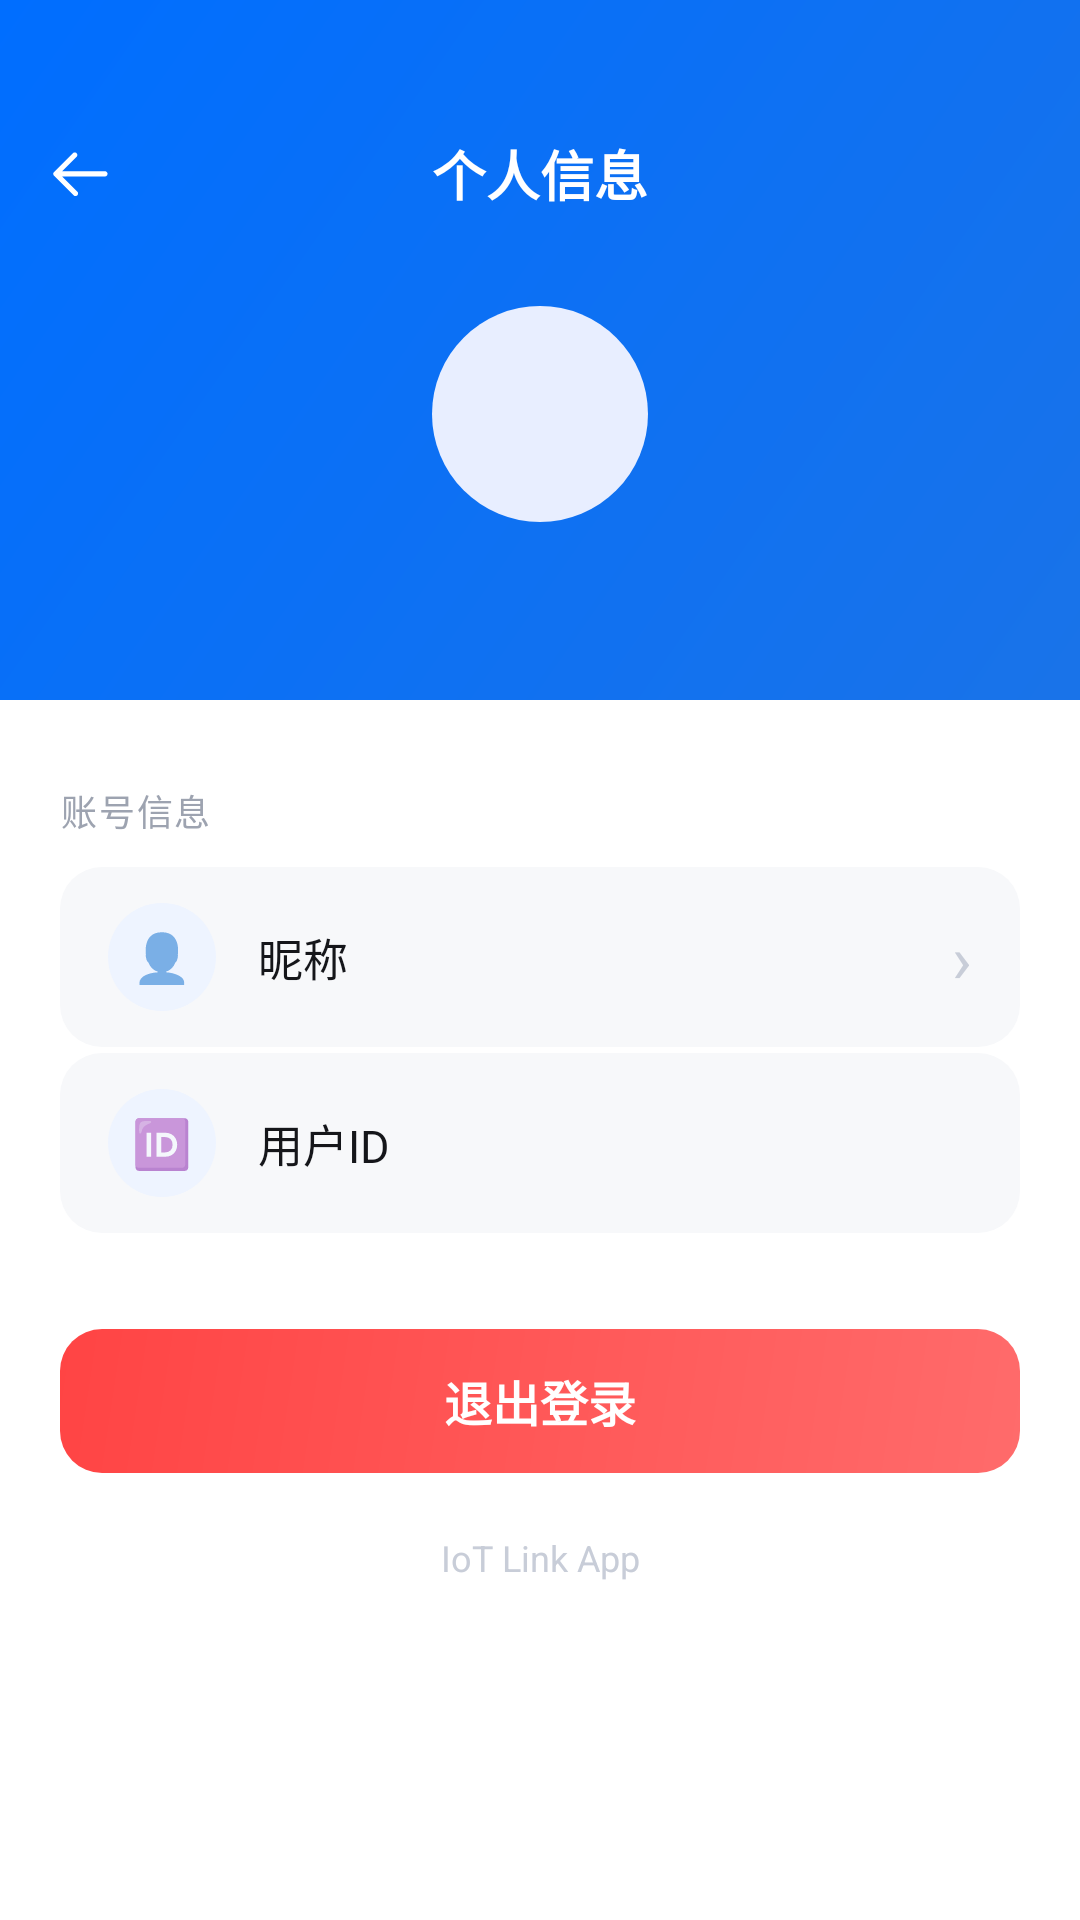

Icons on this 1080 x 1920 Android screen, each with the point to tap as (x,y):
返回: (80,174)
